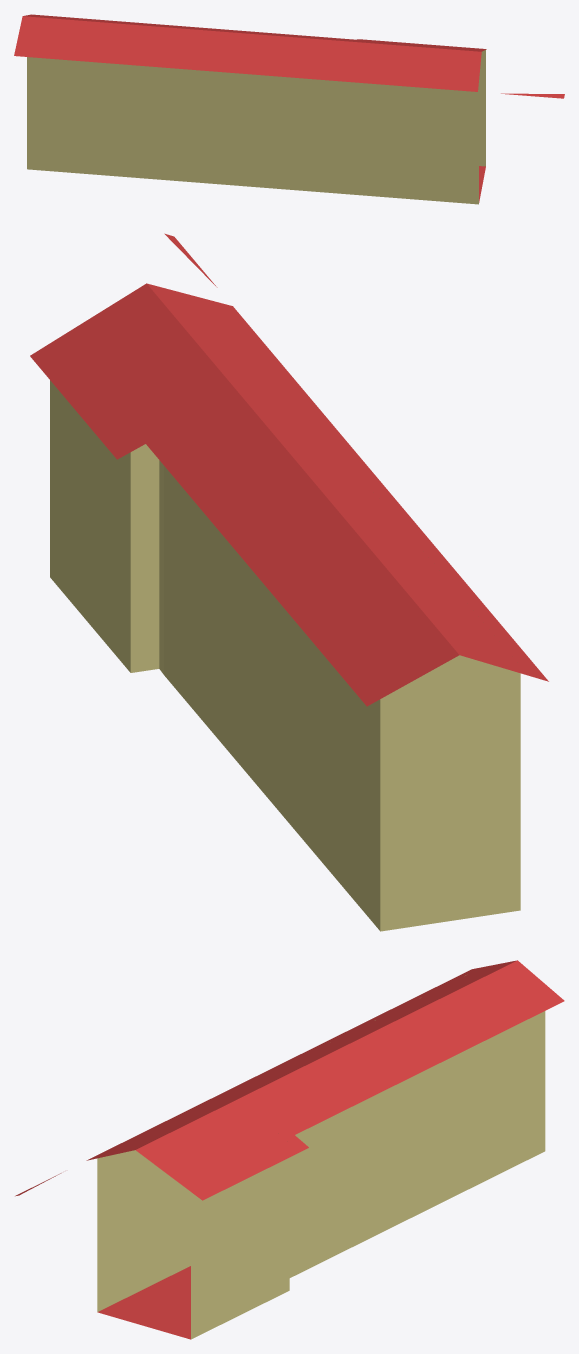
3 views of the same model, one above another, from view 1: azimuth 30°, elevation 25°; view 2: azimuth 150°, elevation 25°; view 3: azimuth 270°, elevation 25° (orthographic). The views are drawn at different scales.
Size of the model in its own units: 19.29 by 19.59 by 6.8.
